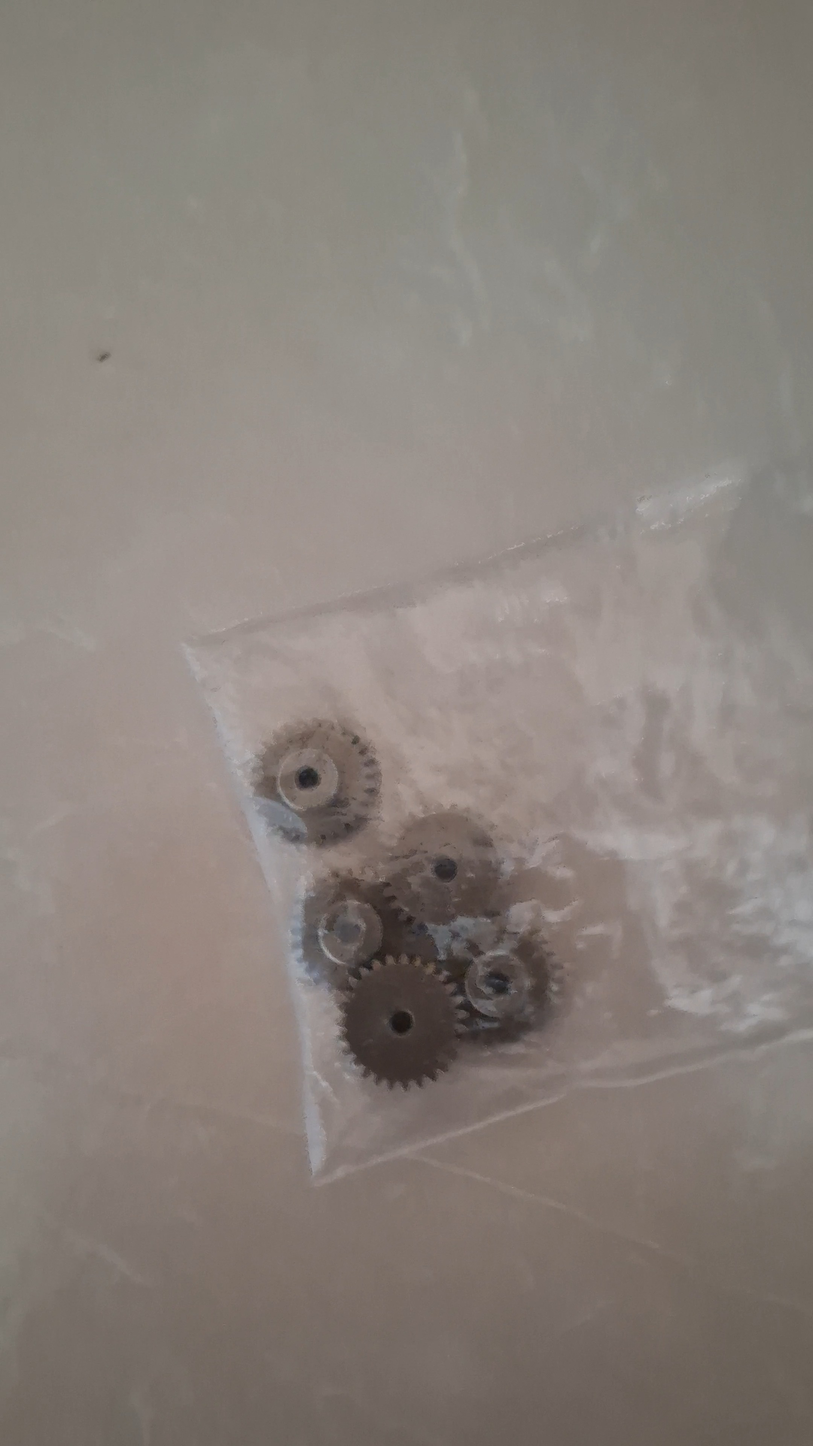spur gear: (341, 955, 463, 1089), (254, 720, 380, 844), (388, 811, 500, 925), (292, 874, 384, 987), (464, 949, 534, 1022)
